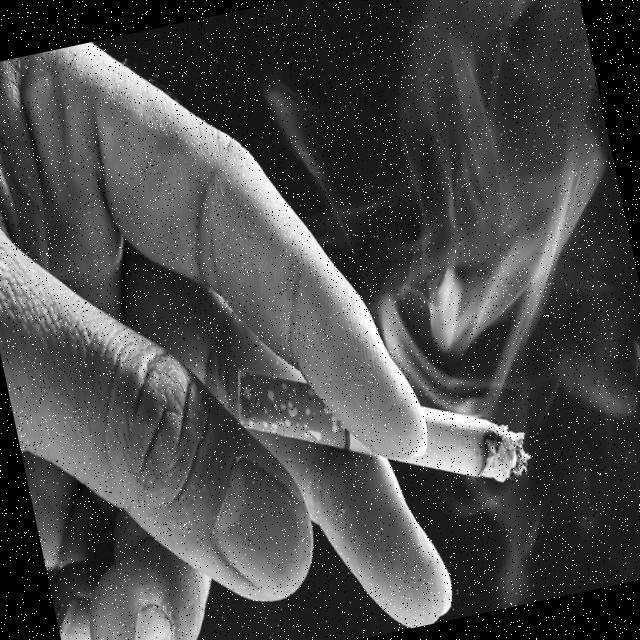cigarette: (220, 290, 547, 552)
